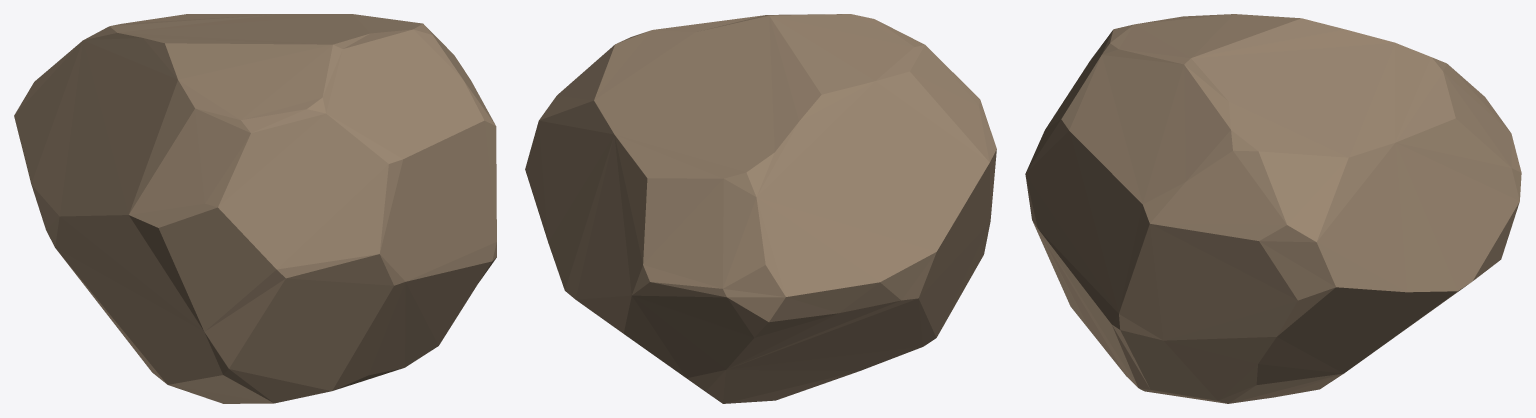
The model's file is rock_round.glb.
3 views of the same model, side by side, from view 1: azimuth 30°, elevation 25°; view 2: azimuth 150°, elevation 25°; view 3: azimuth 270°, elevation 25° (orthographic). The views are drawn at different scales.
Parts seen in each view (by area): view 1: SM_Env_Rock_Round_01; view 2: SM_Env_Rock_Round_01; view 3: SM_Env_Rock_Round_01.
Part boxes in pixels (x1,y1,x2,y2): SM_Env_Rock_Round_01: (14,14,496,403); SM_Env_Rock_Round_01: (525,14,996,403); SM_Env_Rock_Round_01: (1025,14,1521,403).
Bounding box in the file's own units: 2.87 × 2.3 × 3.14.
Materials: 1 (1 with a texture image).
